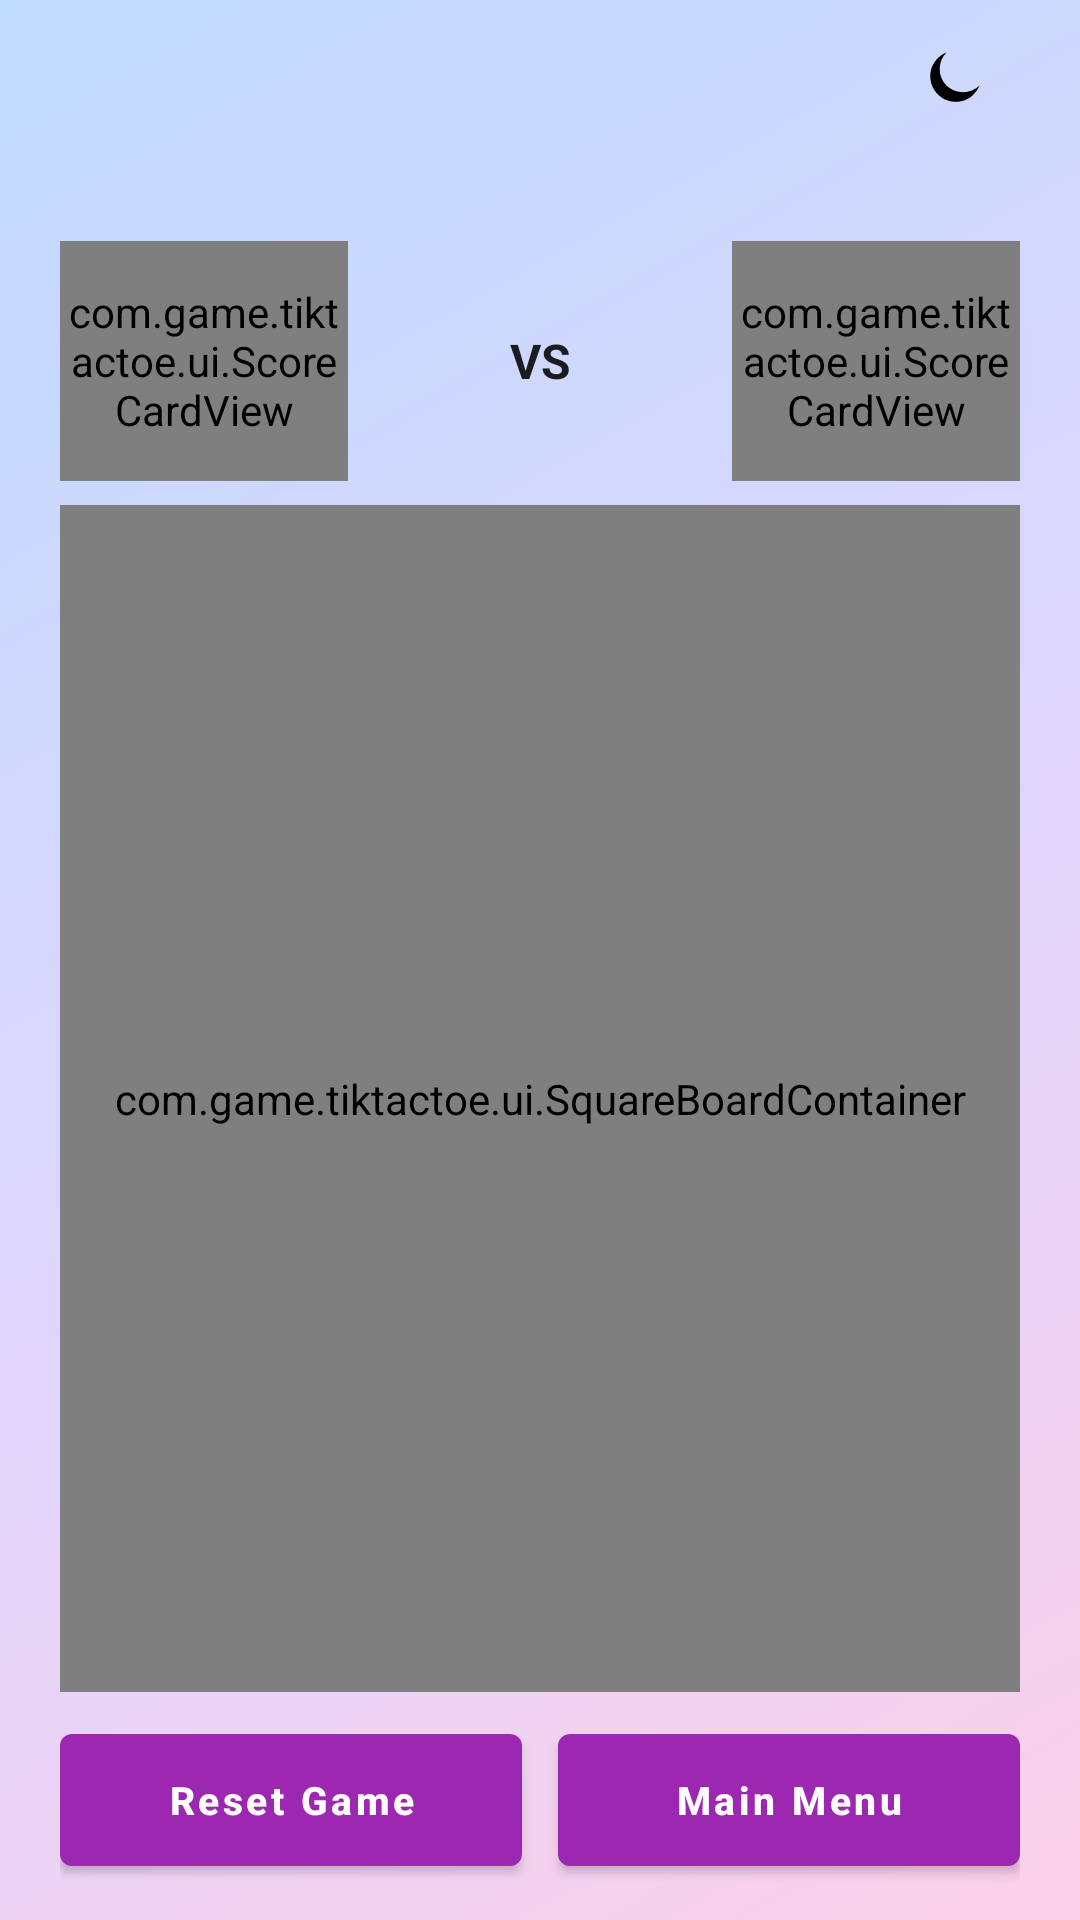

Screen size 1080 × 1920. Icon name, then its box in pixels as (x1, y1, x2, y2):
moon: (930, 52, 980, 102)
